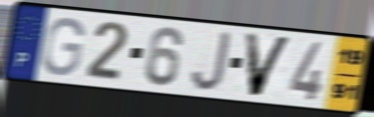2: (84, 20, 131, 84)
4: (287, 39, 324, 103)
6: (143, 25, 185, 88)
G: (40, 15, 87, 78)
J: (189, 29, 233, 93)
V: (243, 31, 296, 99)
